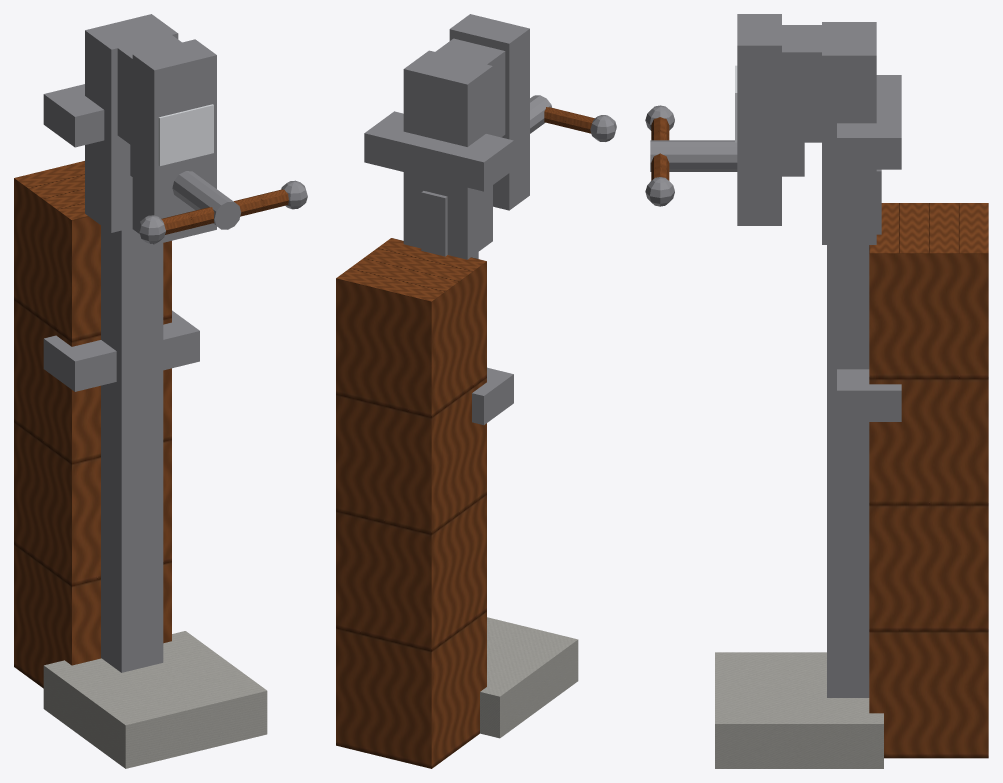
File: leg-vice-on-a-bench-post-1-25-m.glb
3 renders of one model, left to right at view 1: azimuth 30°, elevation 25°; view 2: azimuth 150°, elevation 25°; view 3: azimuth 270°, elevation 25°, orthographic. The views are drawn at different scales.
Visible parts, largest first — view 1: blacksmith-forge-and-armoury-leg-vice, vice-jaw/iron, vice-jaw/steel; view 2: blacksmith-forge-and-armoury-leg-vice, vice-jaw/iron; view 3: blacksmith-forge-and-armoury-leg-vice, vice-jaw/iron.
Boxes of the visible parts, bbox=[...] form: blacksmith-forge-and-armoury-leg-vice: bbox=[14, 14, 307, 768]; vice-jaw/iron: bbox=[130, 39, 216, 244]; vice-jaw/steel: bbox=[158, 104, 213, 165]; blacksmith-forge-and-armoury-leg-vice: bbox=[336, 38, 616, 768]; vice-jaw/iron: bbox=[449, 14, 529, 210]; blacksmith-forge-and-armoury-leg-vice: bbox=[645, 22, 988, 768]; vice-jaw/iron: bbox=[737, 14, 804, 225].
Size of the model in its own units: 0.4 by 1.56 by 0.6901.
4 materials, 2 textured.
